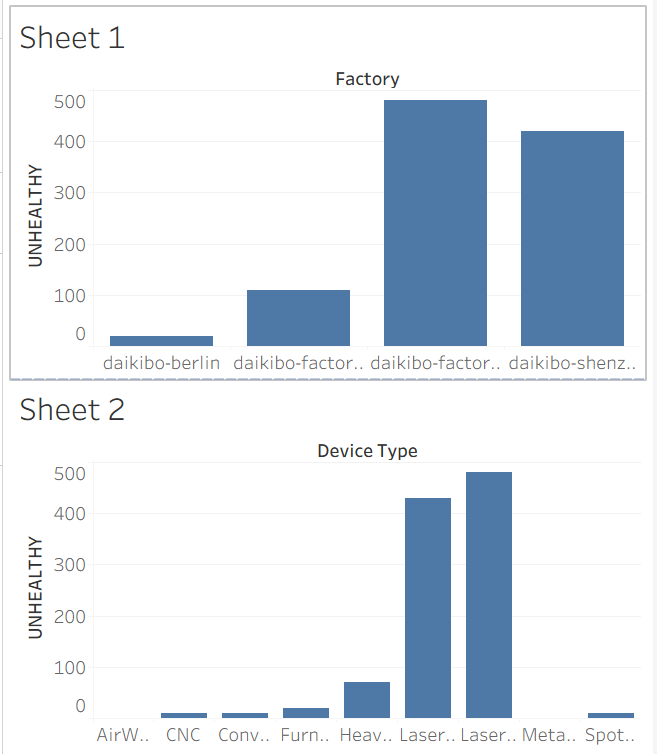

The page's visual inventory and layout, read from the dashboard file:
{"tool":"tableau","page":{"name":"Dashboard 1","canvas":[650,860],"ordinal":0},"visuals":[{"type":"worksheet","title":"Sheet 1","mark":"Automatic","rows":["Calculation_0868674906222592"],"cols":["factory"],"box":[8,9.1,634,420.9]},{"type":"worksheet","title":"Sheet 2","mark":"Automatic","rows":["Calculation_0868674906222592"],"cols":["deviceType"],"box":[8,430,634,420.9]}]}

Visuals, with their boxes on the page's 650x860 design canvas (x1, y1, x2, y2). These are canvas units, not pixel positions in the 657x754 screenshot, which may show the page scaled, cropped or inside an application window:
"Sheet 1" worksheet: x1=8 y1=9 x2=642 y2=430
"Sheet 2" worksheet: x1=8 y1=430 x2=642 y2=851
